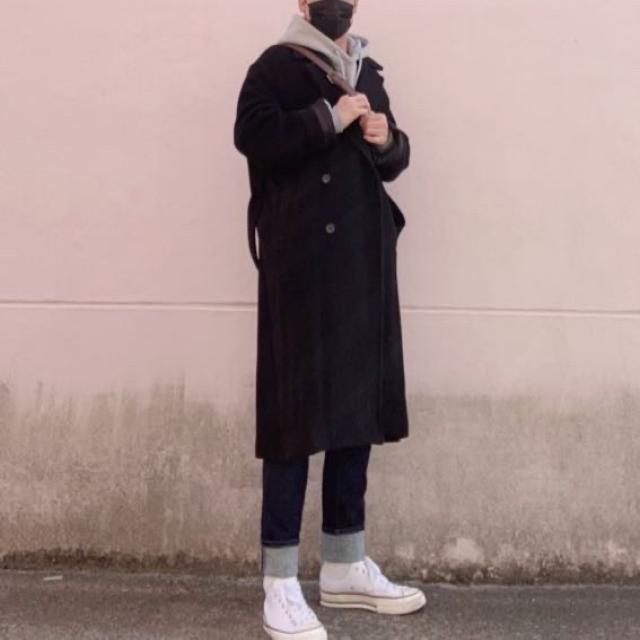coat: (232, 45, 410, 460)
denimpants: (258, 444, 372, 578)
